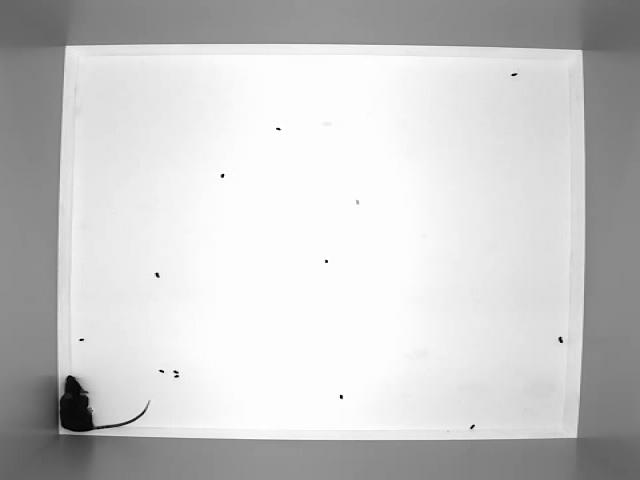Tikus: (51, 368, 161, 432)
